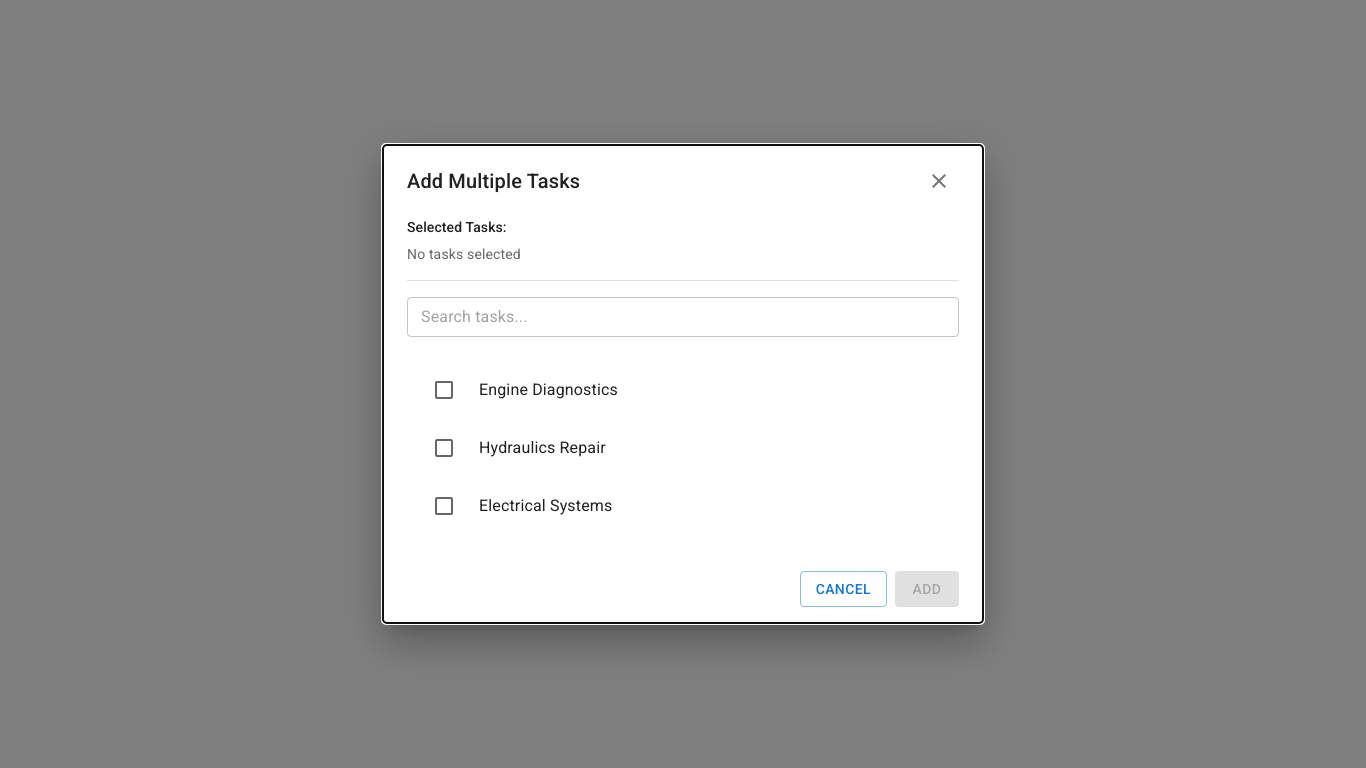
Test: AddMultipleTasksDialog › enables Add button only when tasks are selected
Check: the button "Add" is disabled, box [895,571,959,607]
Step 1. Click the text "Engine Diagnostics" → click(548, 389), box [479,380,618,399]
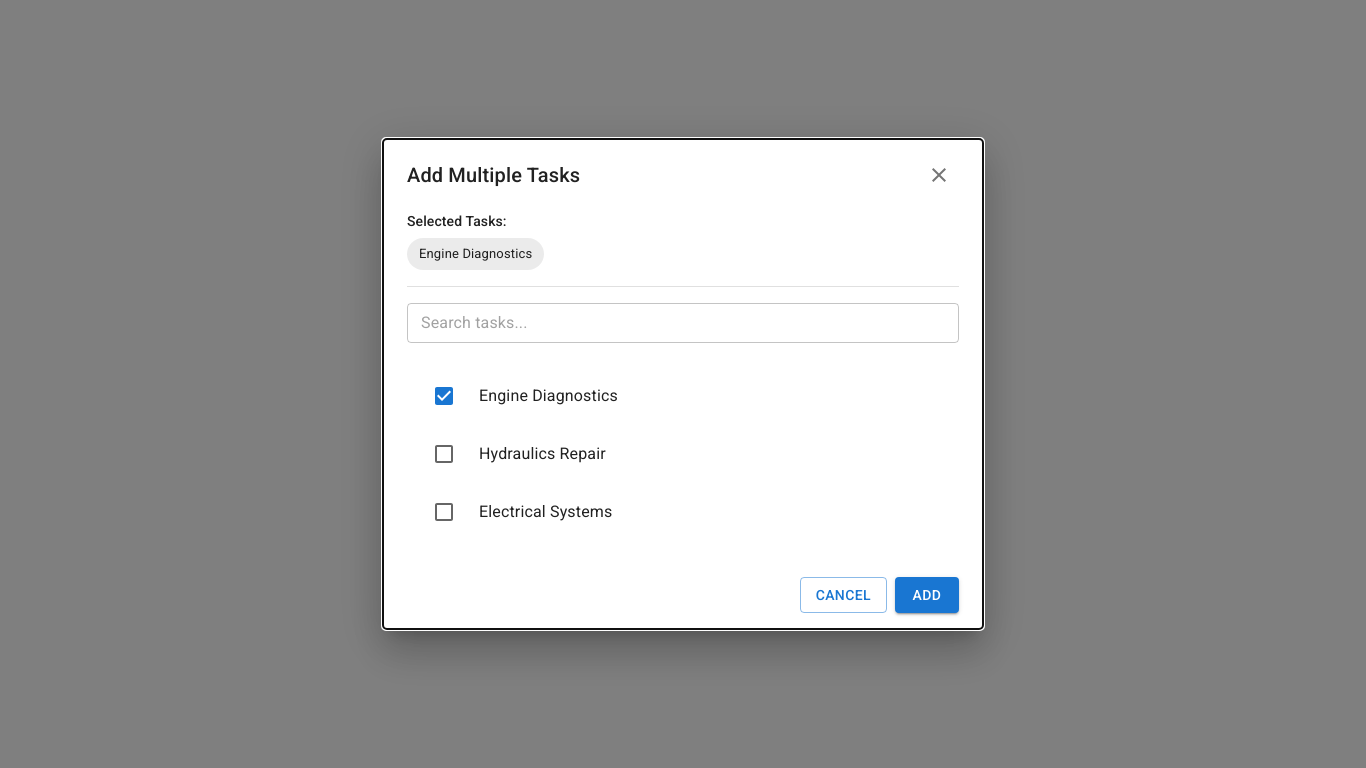
Check: the button "Add" is enabled, box [895,577,959,613]
